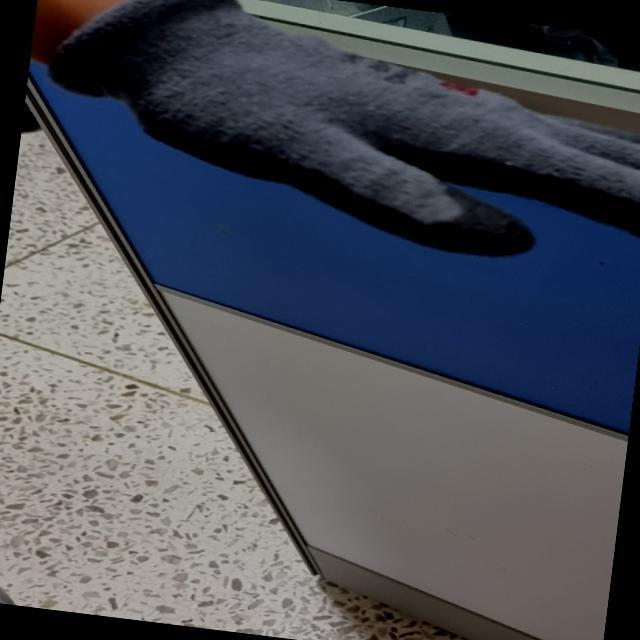Gloves: (51, 0, 636, 262)
